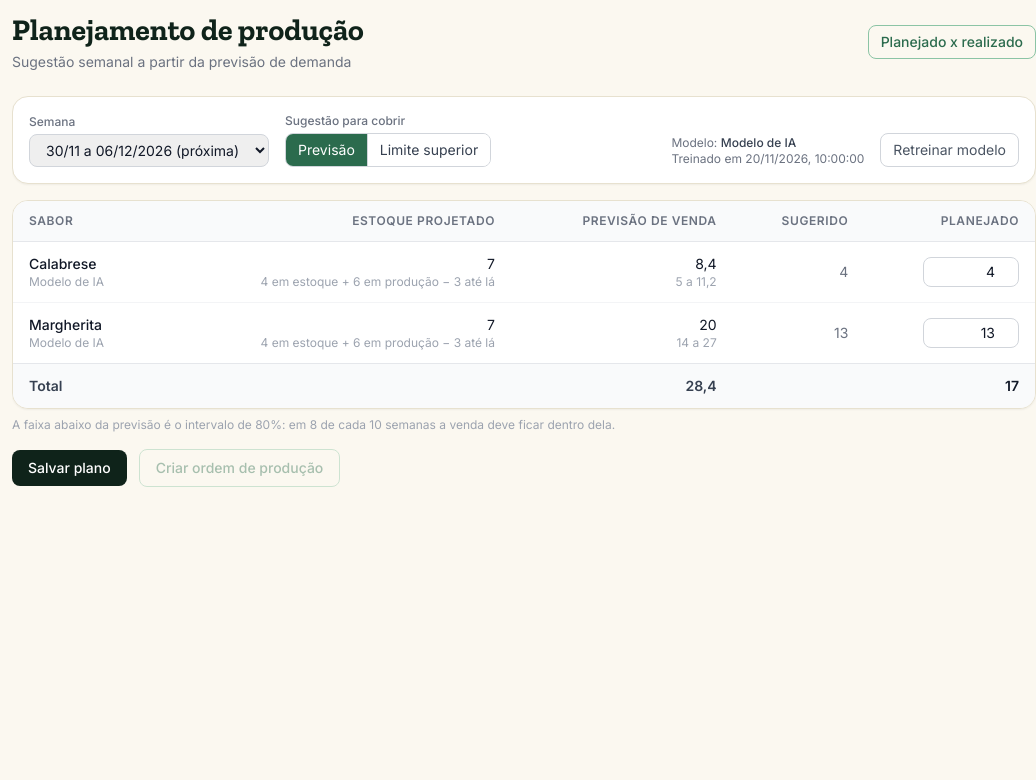
it: tela de planejamento de produção › salvar envia o plano ajustado; só depois de salvo dá para criar a ordem
Check: the text "Margherita" is shown, box [29, 316, 102, 333]
Check: the button "Criar ordem de produção" is disabled, box [139, 449, 340, 487]
Replace the text in the number field in the row of "Margherita" with "15" at {"x": 971, "y": 333}, box [923, 318, 1019, 348]
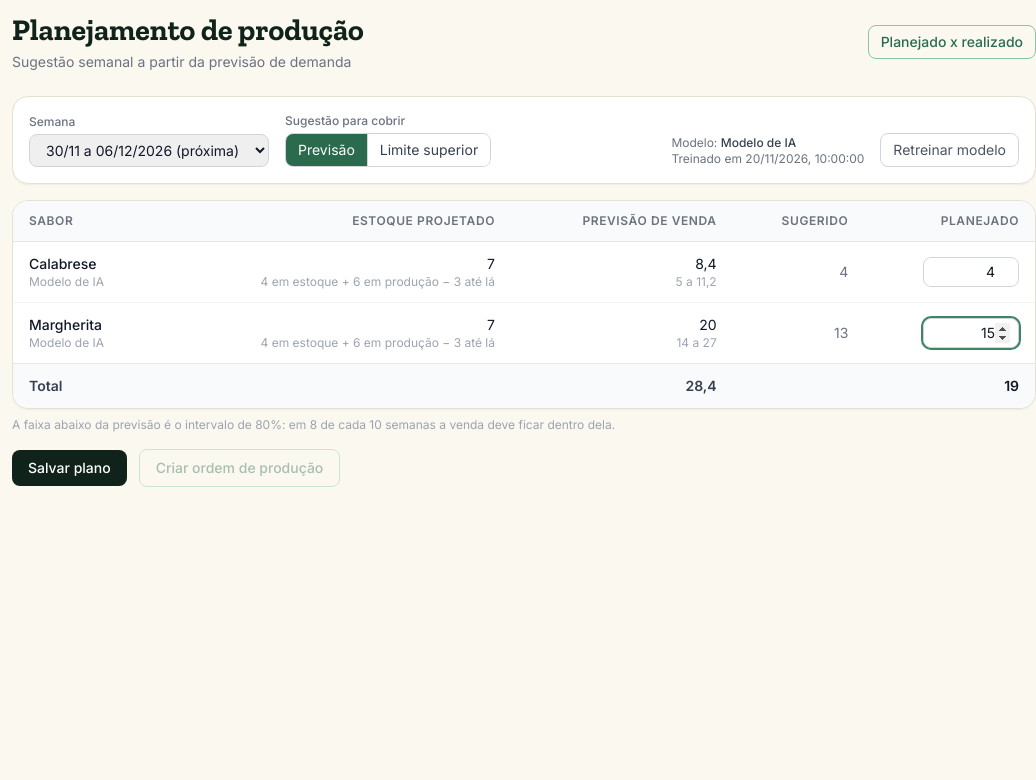
Click the button "Salvar plano" at {"x": 69, "y": 468}, box [12, 450, 127, 486]
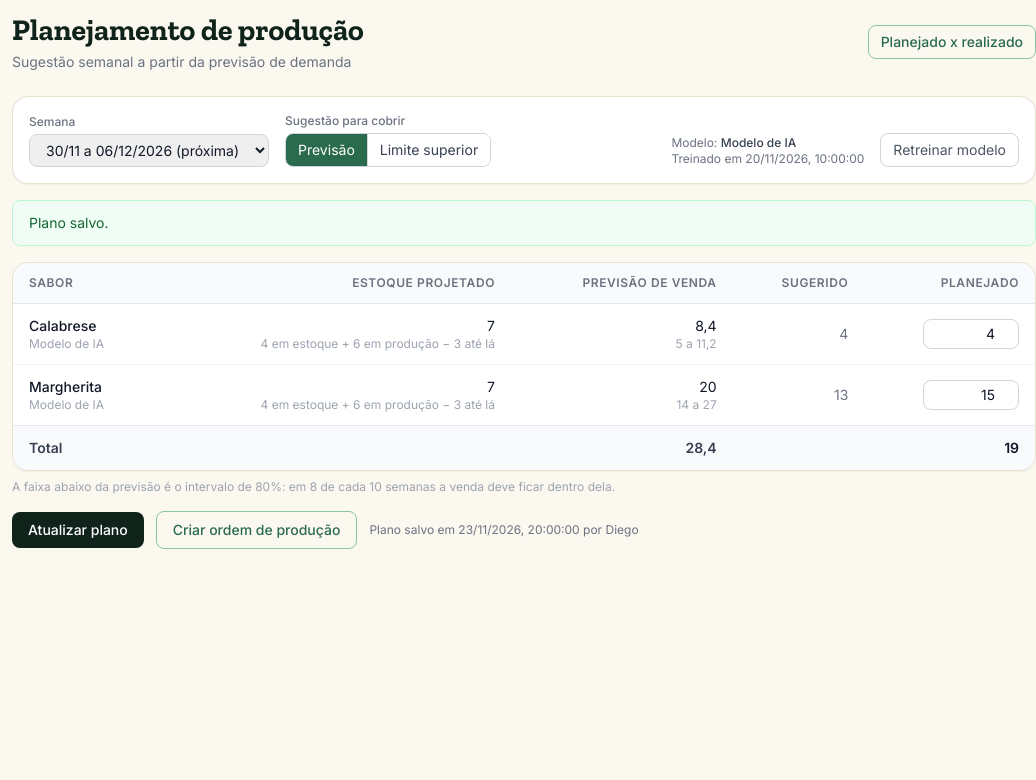
Check: the text "Plano salvo." is shown, box [12, 200, 1035, 246]
Check: the text "Plano salvo em 23/11/2026, 20:00:00 por Diego" is shown, box [369, 522, 639, 538]
Click the button "Criar ordem de produção" at {"x": 257, "y": 530}, box [156, 511, 357, 549]
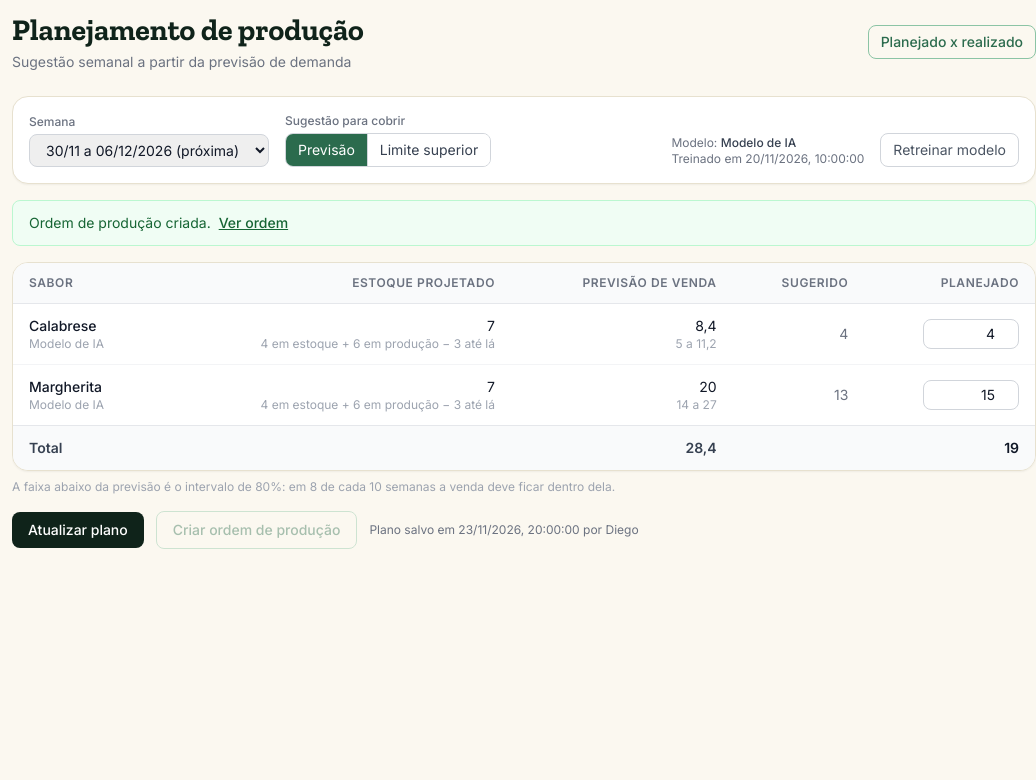
Check: the text "Ordem de produção criada." is shown, box [29, 214, 211, 231]
